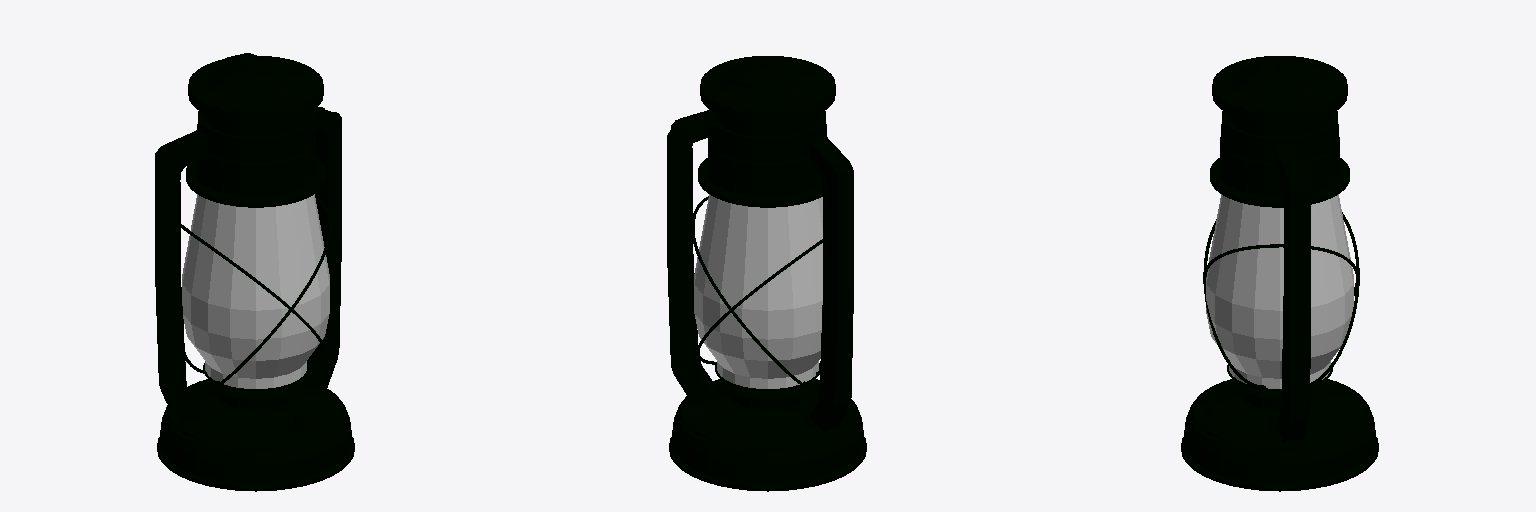
Rendered from lantern.obj.
3 renders of one model, left to right at view 1: azimuth 30°, elevation 25°; view 2: azimuth 150°, elevation 25°; view 3: azimuth 270°, elevation 25°, orthographic.
Parts seen in each view (by area): view 1: Lamp, Glass; view 2: Lamp, Glass; view 3: Lamp, Glass.
Boxes of the visible parts, box(x1,y1,x2,y2) form: Lamp: box(155, 53, 354, 491); Glass: box(182, 194, 329, 388); Lamp: box(667, 56, 866, 491); Glass: box(694, 194, 822, 388); Lamp: box(1181, 56, 1378, 491); Glass: box(1206, 194, 1353, 388).
Bounding box in the file's own units: 129 × 259 × 120.